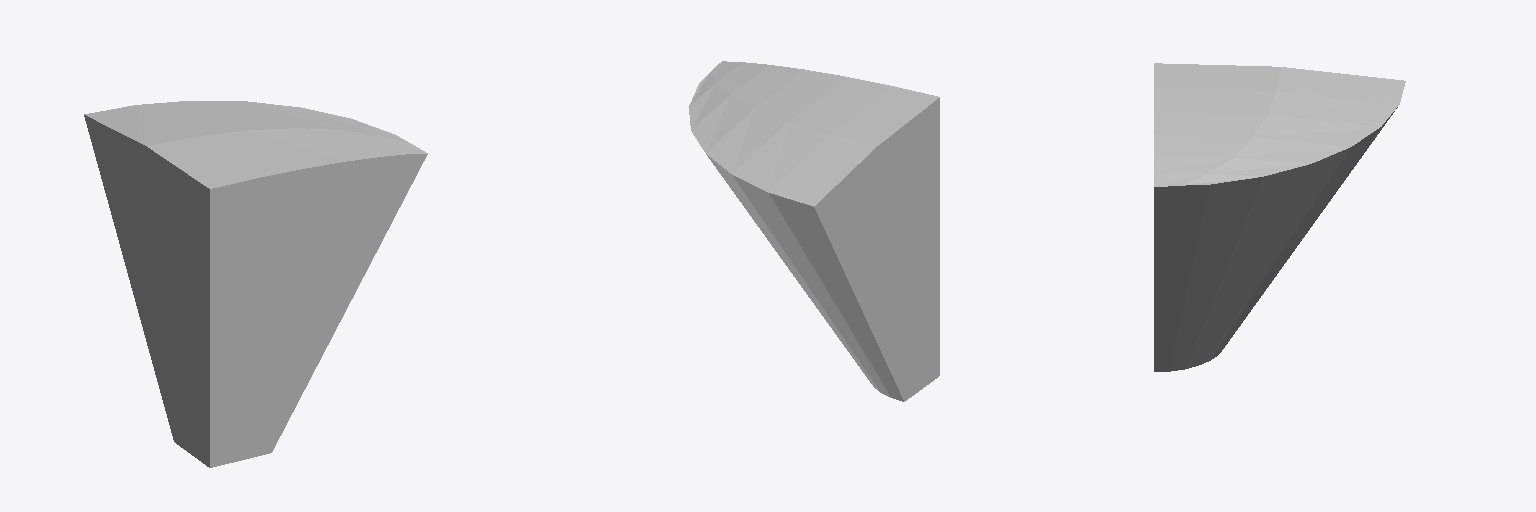
The model's file is cor_selecao_1.obj.
3 views of the same model, side by side, from view 1: azimuth 30°, elevation 25°; view 2: azimuth 150°, elevation 25°; view 3: azimuth 270°, elevation 25° (orthographic).
Visible parts, largest first — view 1: Plane.001_Plane.002; view 2: Plane.001_Plane.002; view 3: Plane.001_Plane.002.
Boxes of the visible parts, x1,y1,x2,y2 form: Plane.001_Plane.002: [84, 101, 427, 467]; Plane.001_Plane.002: [689, 61, 939, 401]; Plane.001_Plane.002: [1154, 63, 1405, 371].
Size of the model in its own units: 1.25 by 1.53 by 1.25.